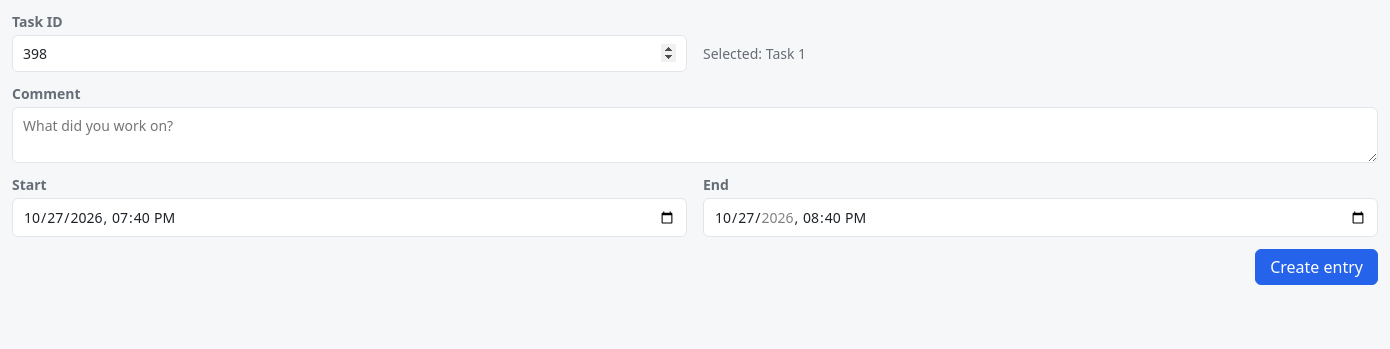
Test: TimeEntryForm › shows the error from the server
Type "Meeting" into the text box labelled "Comment" at [695, 135], box [12,107,1378,163]
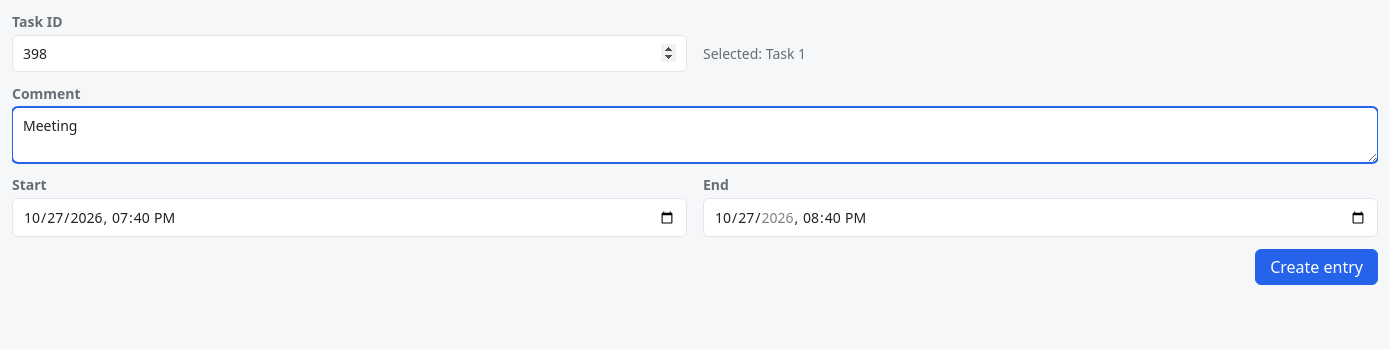
Click the button "Create entry" at [1317, 267], box [1255,249,1378,285]
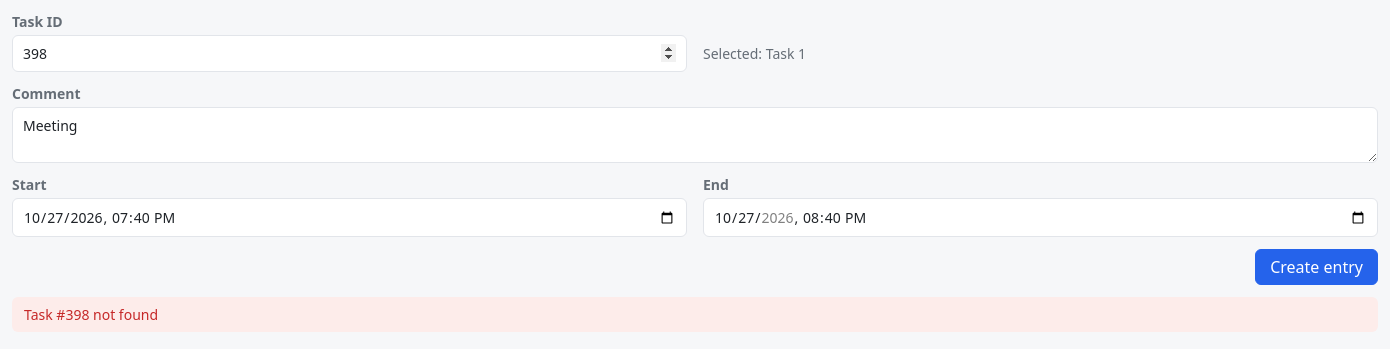
Check: the message reads "Task #398 not found", box [24,305,158,324]
